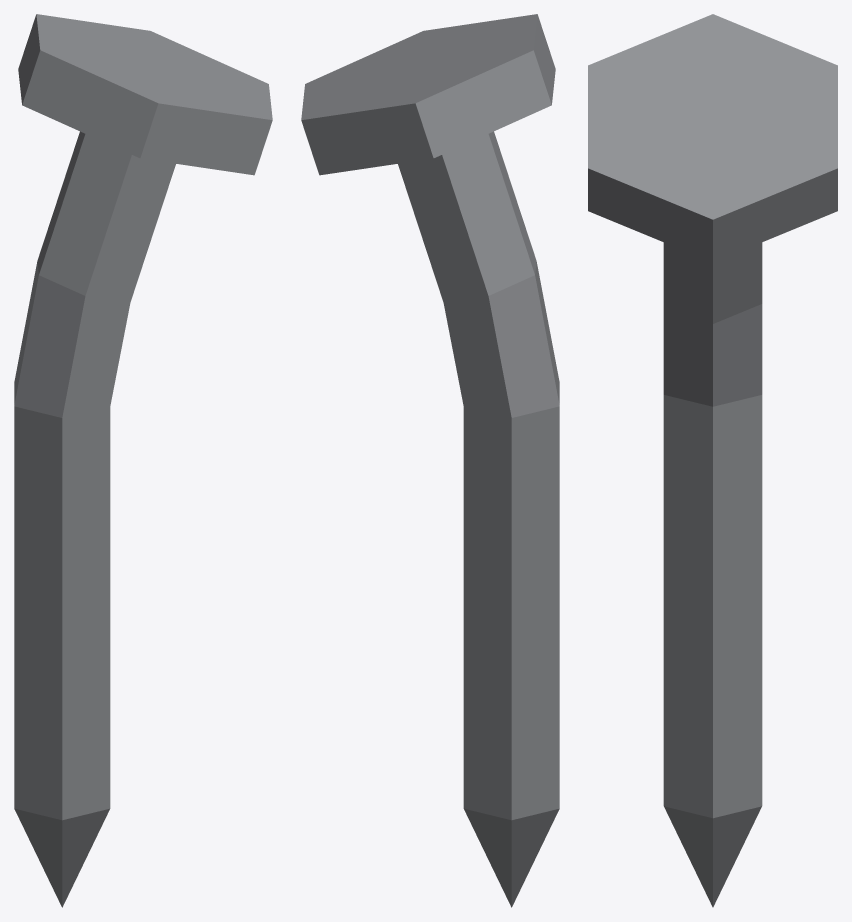
File: SM_Item_Nail_05.glb
3 renders of one model, left to right at view 1: azimuth 30°, elevation 25°; view 2: azimuth 150°, elevation 25°; view 3: azimuth 270°, elevation 25°, orthographic. The views are drawn at different scales.
Visible parts, largest first — view 1: SM_Item_Nail_05; view 2: SM_Item_Nail_05; view 3: SM_Item_Nail_05.
Boxes of the visible parts, bbox=[...] form: SM_Item_Nail_05: bbox=[14, 14, 272, 907]; SM_Item_Nail_05: bbox=[301, 14, 559, 907]; SM_Item_Nail_05: bbox=[588, 14, 837, 907].
Bounding box in the file's own units: 0.0404 × 0.1308 × 0.0335.
1 material, 1 textured.
